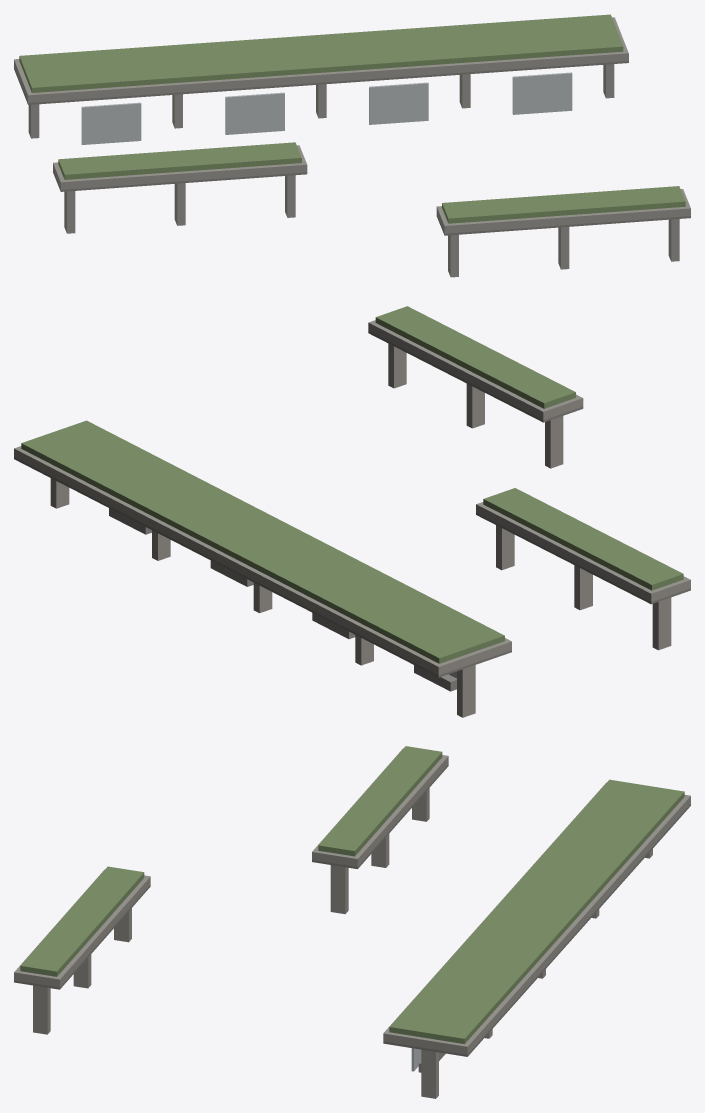
File: z5a_bushof.glb
3 views of the same model, one above another, from view 1: azimuth 30°, elevation 25°; view 2: azimuth 150°, elevation 25°; view 3: azimuth 270°, elevation 25° (orthographic). The views are drawn at different scales.
Visible parts, largest first — view 1: z5a_bushof; view 2: z5a_bushof; view 3: z5a_bushof.
Part boxes in pixels (left/top/right/bottom): z5a_bushof: left=14, top=14, right=690, bottom=277; z5a_bushof: left=14, top=306, right=690, bottom=717; z5a_bushof: left=14, top=746, right=690, bottom=1098.
Bounding box in the file's own units: 35.94 × 3.9 × 34.54.
Materials: 1 (1 with a texture image).
